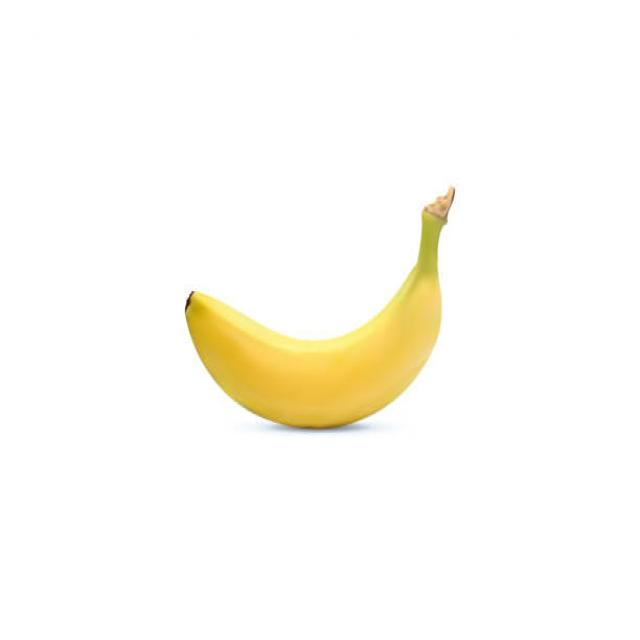banana: (172, 154, 492, 428)
